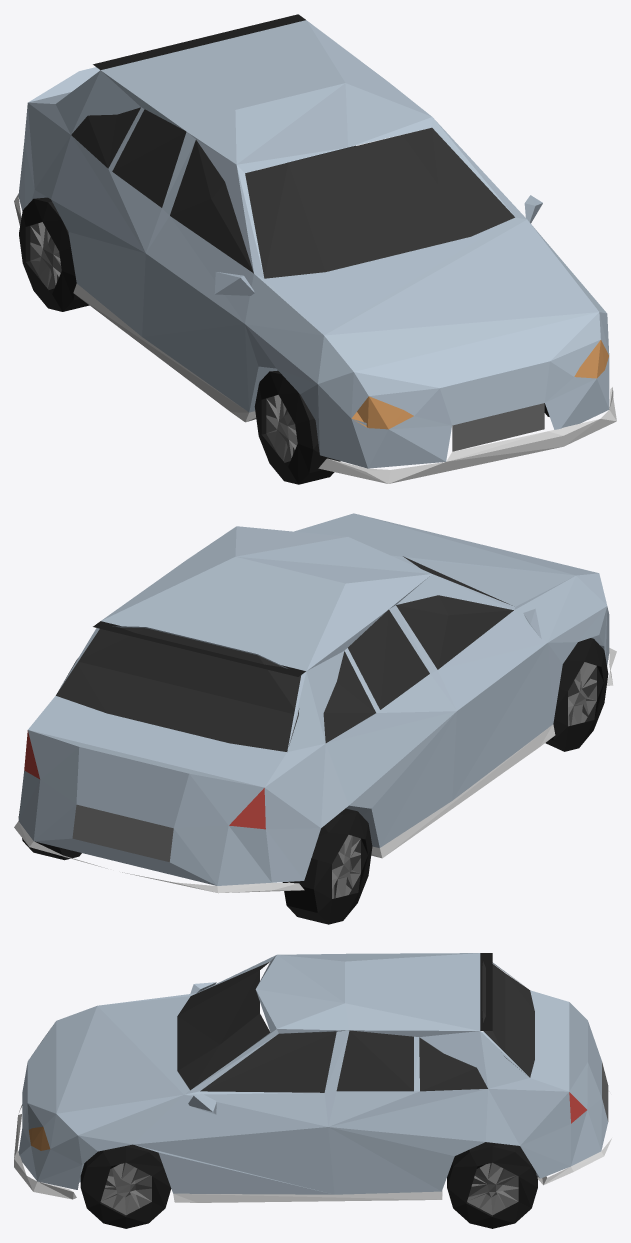
The model's file is quaternius-normal-car-2-parked.glb.
3 renders of one model, top to bottom at view 1: azimuth 30°, elevation 25°; view 2: azimuth 150°, elevation 25°; view 3: azimuth 270°, elevation 25°, orthographic. The views are drawn at different scales.
Parts seen in each view (by area): view 1: NormalCar2_Cube.002; view 2: NormalCar2_Cube.002; view 3: NormalCar2_Cube.002.
Part boxes in pixels (left/top/right/bottom): NormalCar2_Cube.002: left=14, top=14, right=616, bottom=484; NormalCar2_Cube.002: left=14, top=513, right=616, bottom=924; NormalCar2_Cube.002: left=14, top=953, right=611, bottom=1228.
Bounding box in the file's own units: 1.62 × 1.15 × 3.28.
